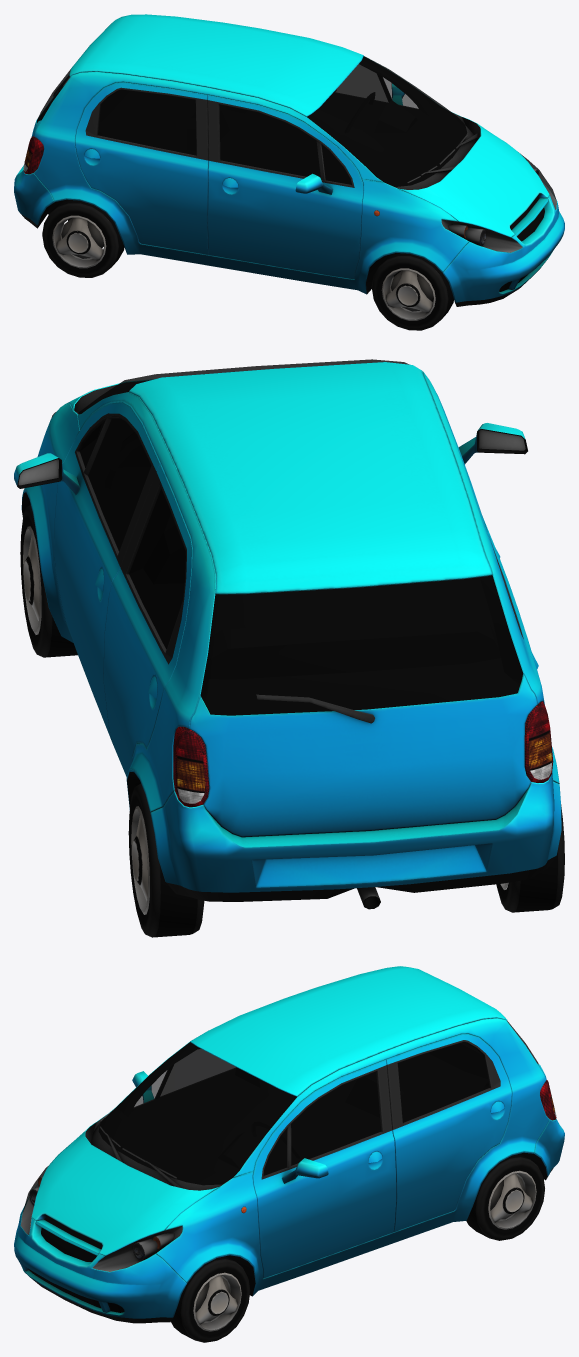
File: compact.glb
The picture shows the model from 3 angles, top to bottom: view 1: azimuth 30°, elevation 25°; view 2: azimuth 150°, elevation 25°; view 3: azimuth 270°, elevation 25°; orthographic projection. The views are drawn at different scales.
Visible parts, largest first — view 1: Compact Body, Wheel_C003, Wheel_C002; view 2: Compact Body, Wheel_C001, Wheel_C, Wheel_C002; view 3: Compact Body, Wheel_C, Wheel_C001.
Part boxes in pixels (x1,y1,x2,y2): Compact Body: (14,14,564,306); Wheel_C003: (371,253,453,330); Wheel_C002: (42,199,124,277); Compact Body: (14,359,561,909); Wheel_C001: (128,783,204,937); Wheel_C: (20,505,77,657); Wheel_C002: (496,804,564,912); Compact Body: (14,966,564,1323); Wheel_C: (171,1256,250,1342); Wheel_C001: (466,1154,544,1240).
Bounding box in the file's own units: 2.73 × 1.32 × 3.01.
4 materials, 3 textured.
